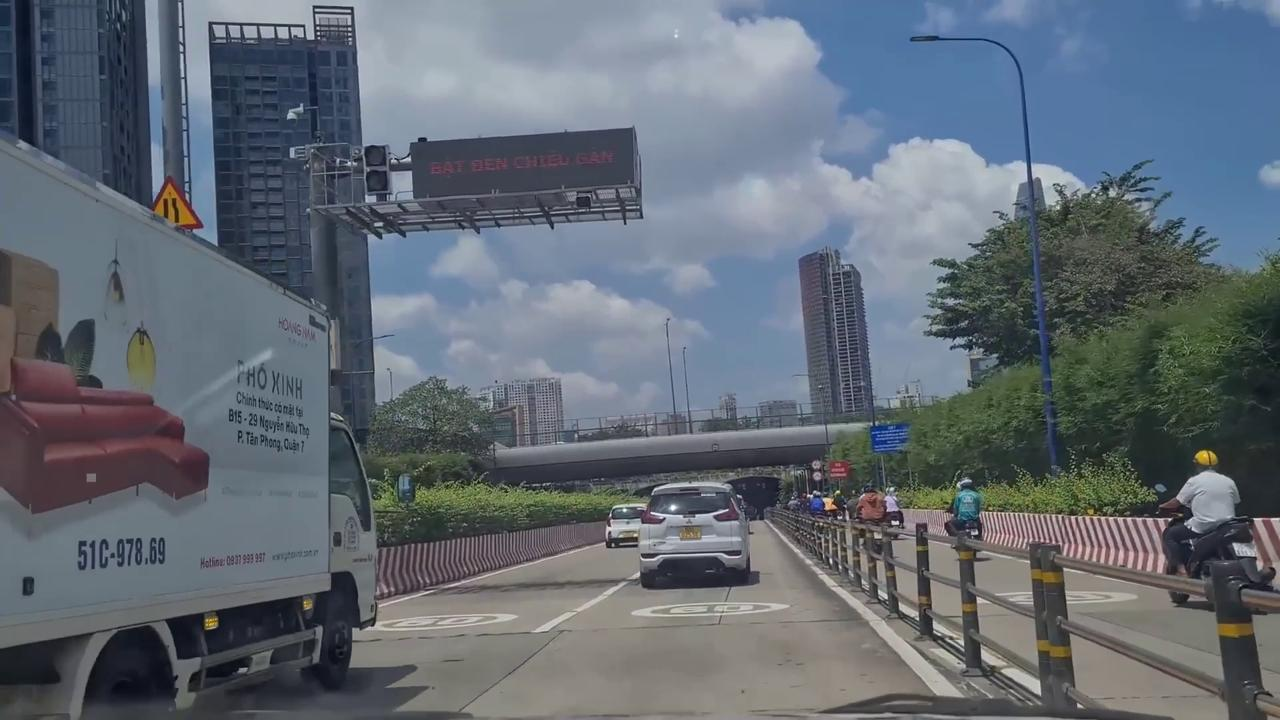Đuờng hẹp: (140, 172, 204, 233)
